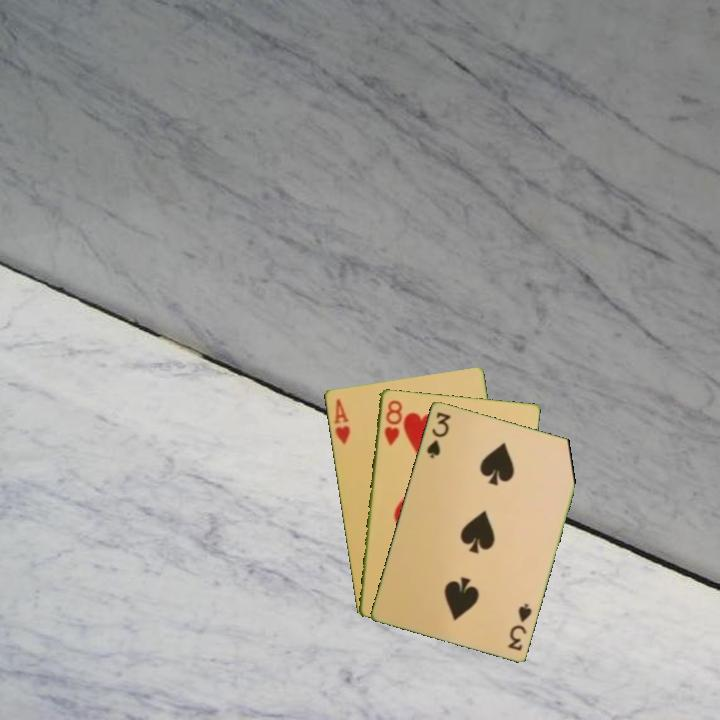3s: (504, 599, 534, 653), (423, 408, 453, 461)
8h: (380, 396, 404, 448)
Ah: (330, 395, 353, 447)
